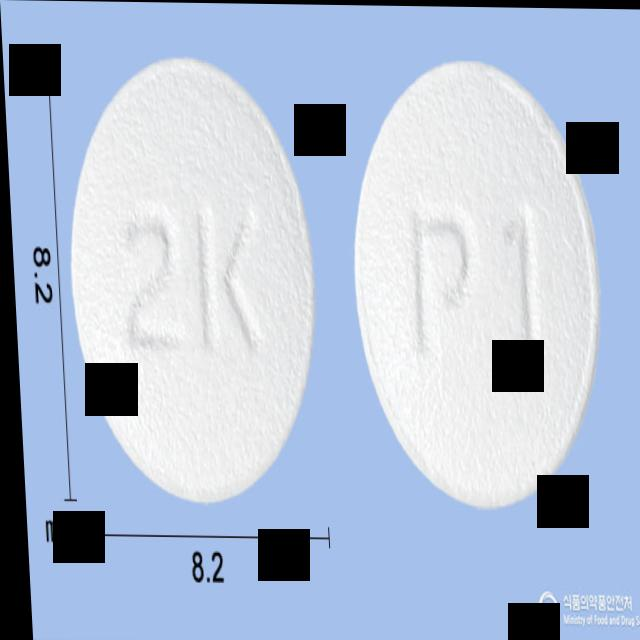Letroxin: (60, 52, 323, 508), (342, 63, 606, 510)
